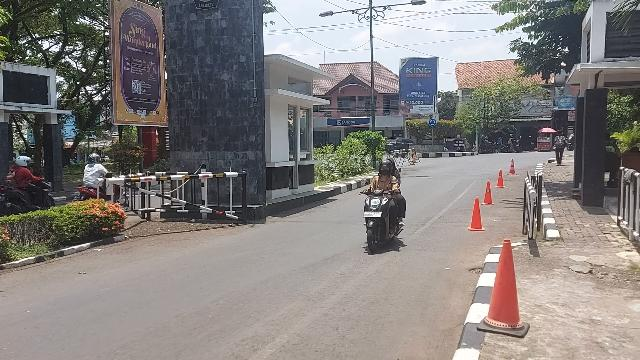helm: (381, 161, 394, 175)
motor: (361, 190, 402, 253)
